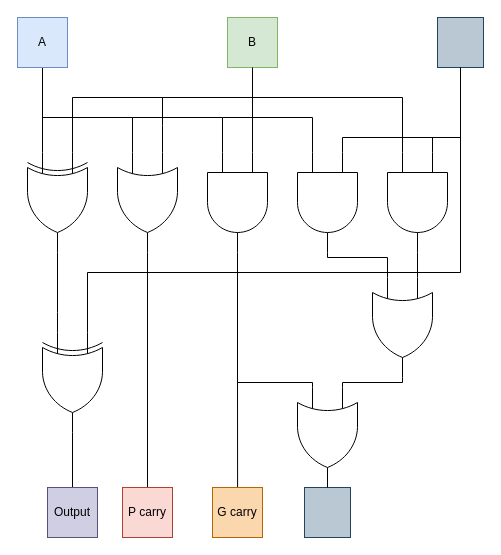
The diagram is 501 pixels wide and 555 high, and some of its shapes have lost their labels. The shapes that lost their labels are listed below. From the top down, each one's centre as x and y in pixels, then its label:
the point at 460,42: Carry in
the point at 327,512: Carry out
